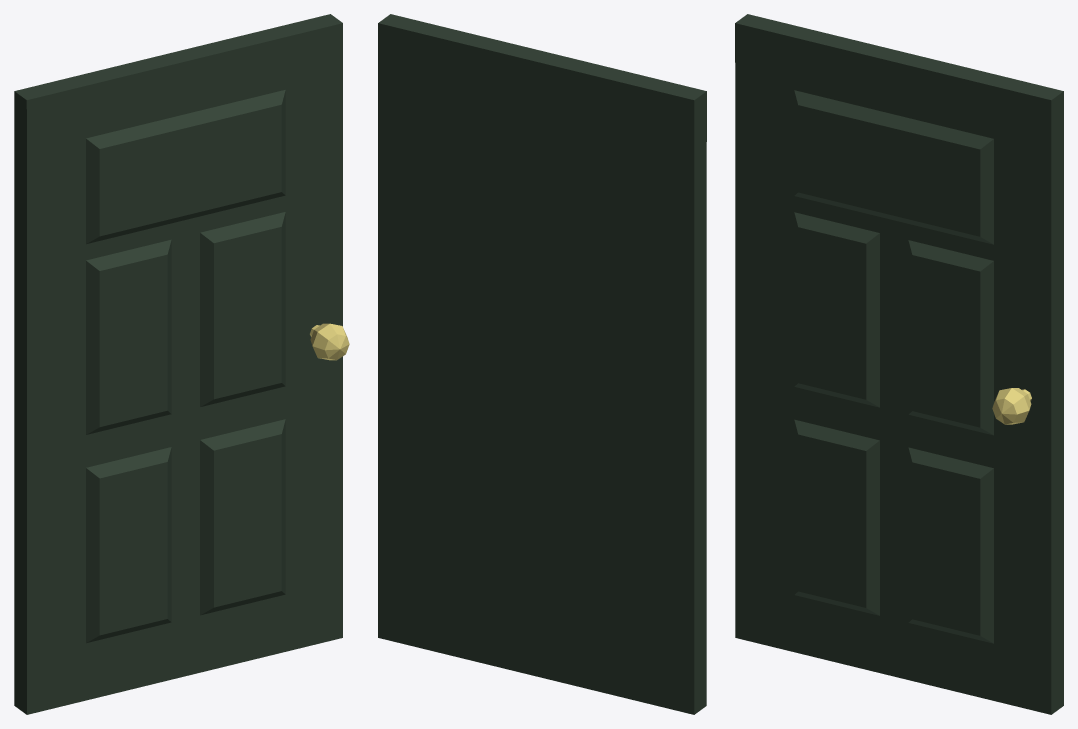
Rendered from Itr_Door_05.FBX.
The picture shows the model from 3 angles, left to right: view 1: azimuth 30°, elevation 25°; view 2: azimuth 150°, elevation 25°; view 3: azimuth 330°, elevation 25°; orthographic projection.
Visible parts, largest first — view 1: Itr_Door_05; view 2: Itr_Door_05; view 3: Itr_Door_05.
Boxes of the visible parts, bbox=[...] form: Itr_Door_05: bbox=[14, 14, 349, 714]; Itr_Door_05: bbox=[378, 14, 706, 714]; Itr_Door_05: bbox=[735, 14, 1063, 714].
Bounding box in the file's own units: 43.59 × 80.97 × 8.56.
